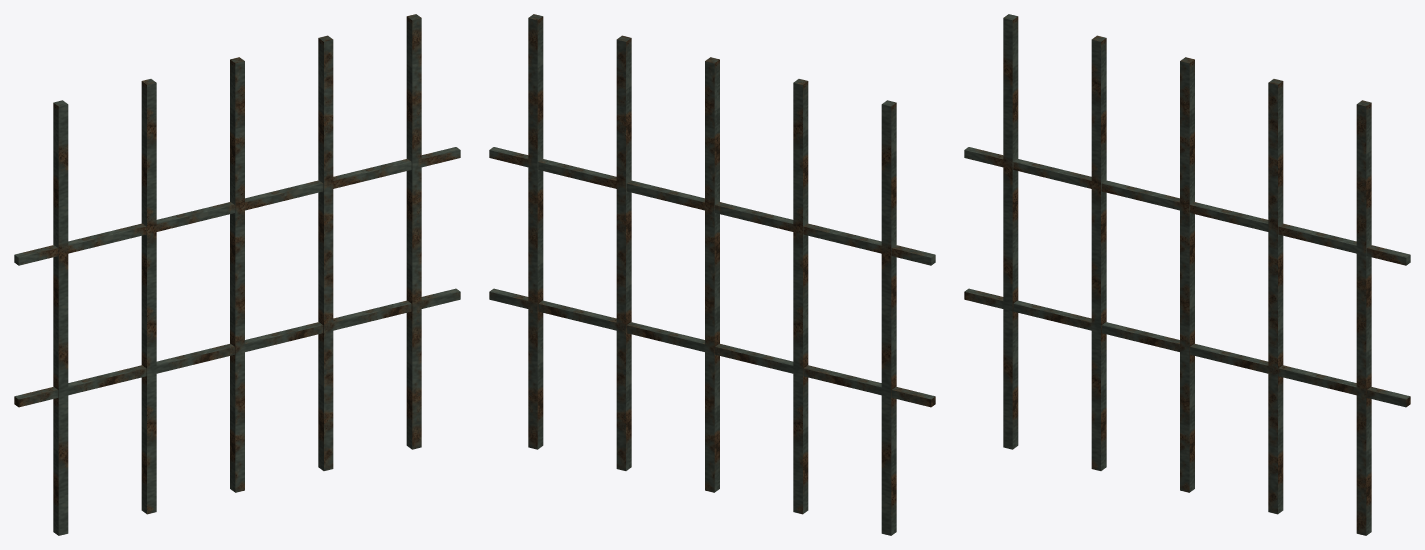
The model's file is SM_Window_Bars.fbx.
The picture shows the model from 3 angles, left to right: view 1: azimuth 30°, elevation 25°; view 2: azimuth 150°, elevation 25°; view 3: azimuth 330°, elevation 25°; orthographic projection.
Visible parts, largest first — view 1: SM_Window_Bars; view 2: SM_Window_Bars; view 3: SM_Window_Bars.
Part boxes in pixels (x1,y1,x2,y2): SM_Window_Bars: (14,14,460,535); SM_Window_Bars: (489,14,935,535); SM_Window_Bars: (964,14,1410,535).
Size of the model in its own units: 1.4 by 1.3 by 0.03.
